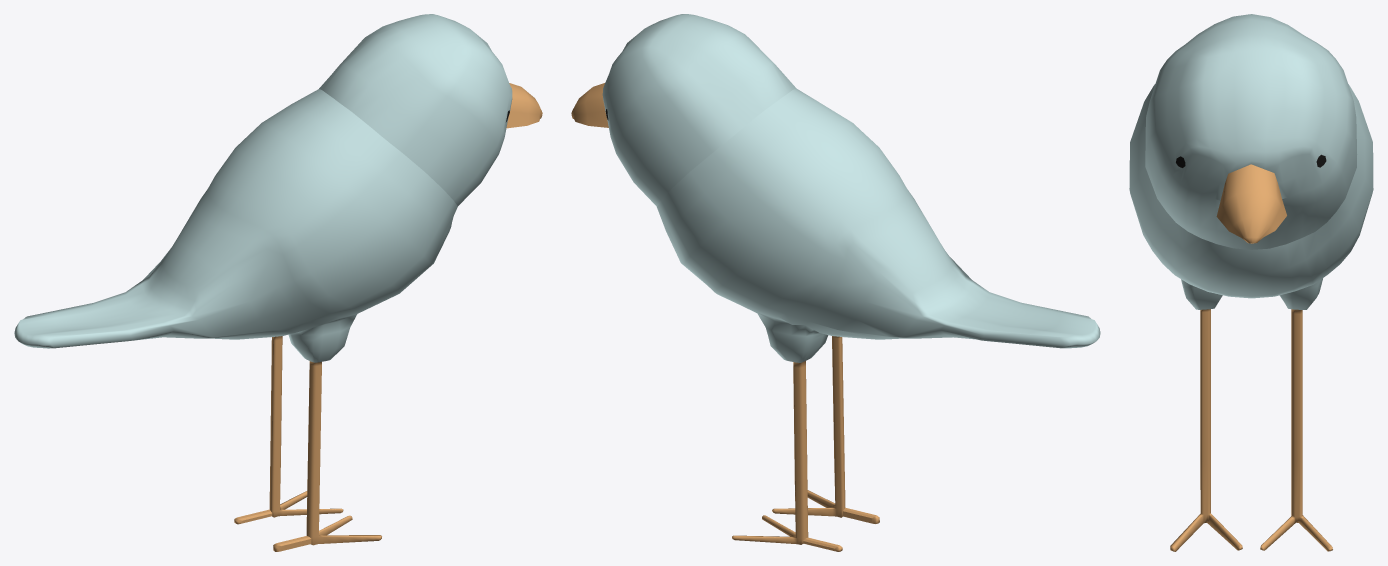
Rendered from bort.fbx.
3 renders of one model, left to right at view 1: azimuth 30°, elevation 25°; view 2: azimuth 150°, elevation 25°; view 3: azimuth 270°, elevation 25°, orthographic. The views are drawn at different scales.
Visible parts, largest first — view 1: bort; view 2: bort; view 3: bort.
Boxes of the visible parts, x1,y1,x2,y2 form: bort: (14, 14, 542, 551); bort: (571, 14, 1100, 551); bort: (1129, 14, 1373, 551).
Size of the model in its own units: 0.1408 by 0.1216 by 0.0474.
